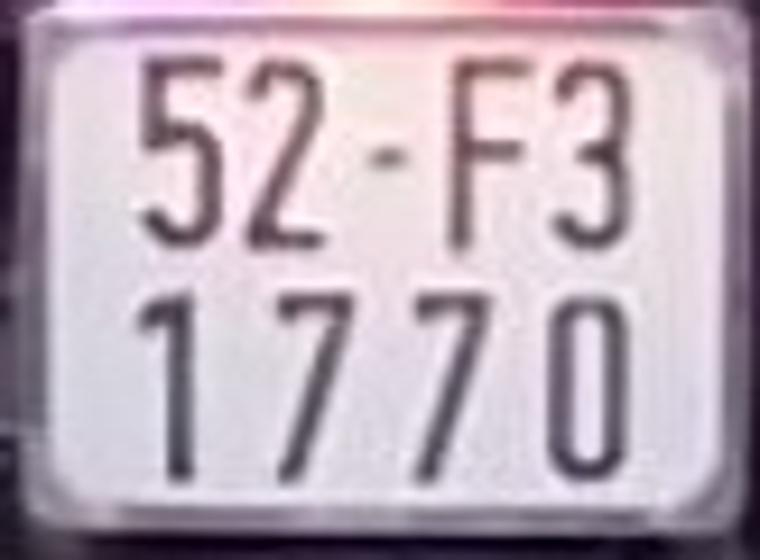-: (361, 140, 403, 173)
0: (544, 292, 629, 480)
1: (132, 287, 201, 485)
2: (237, 51, 333, 255)
3: (552, 59, 635, 246)
5: (130, 51, 228, 248)
7: (271, 284, 361, 484), (410, 287, 495, 483)
F: (447, 55, 540, 252)
